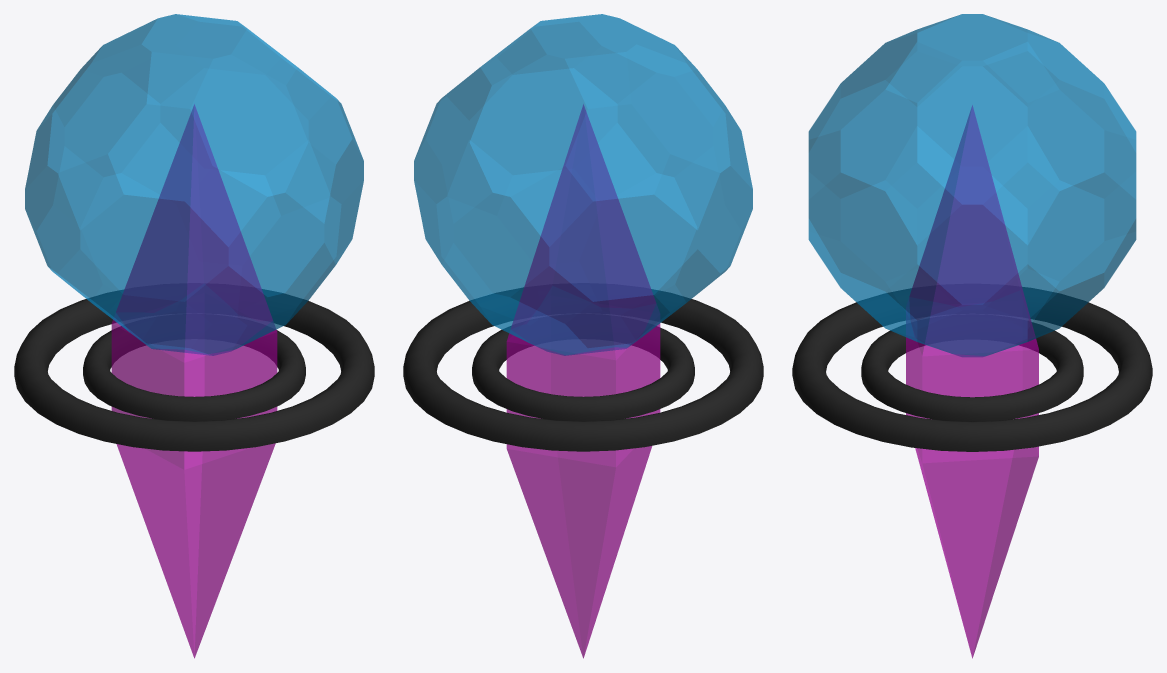
File: powerup_b.fbx
3 renders of one model, left to right at view 1: azimuth 30°, elevation 25°; view 2: azimuth 150°, elevation 25°; view 3: azimuth 270°, elevation 25°, orthographic.
Parts seen in each view (by area): view 1: goal, Powerup, goalbase; view 2: goal, Powerup, goalbase; view 3: goal, Powerup, goalbase.
Boxes of the visible parts, box(x1,y1,x2,y2) form: goal: box(25, 14, 363, 355); Powerup: box(111, 104, 277, 658); goalbase: box(14, 289, 374, 451); goal: box(414, 14, 752, 355); Powerup: box(506, 104, 660, 658); goalbase: box(403, 287, 763, 451); goal: box(808, 14, 1136, 356); Powerup: box(906, 105, 1038, 658); goalbase: box(792, 287, 1152, 451).
Size of the model in its own units: 122 by 233 by 122.
